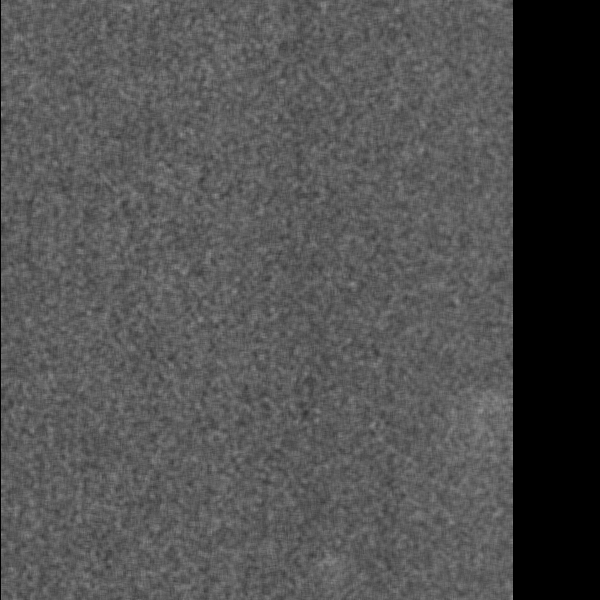spark: (220, 346, 299, 394)
